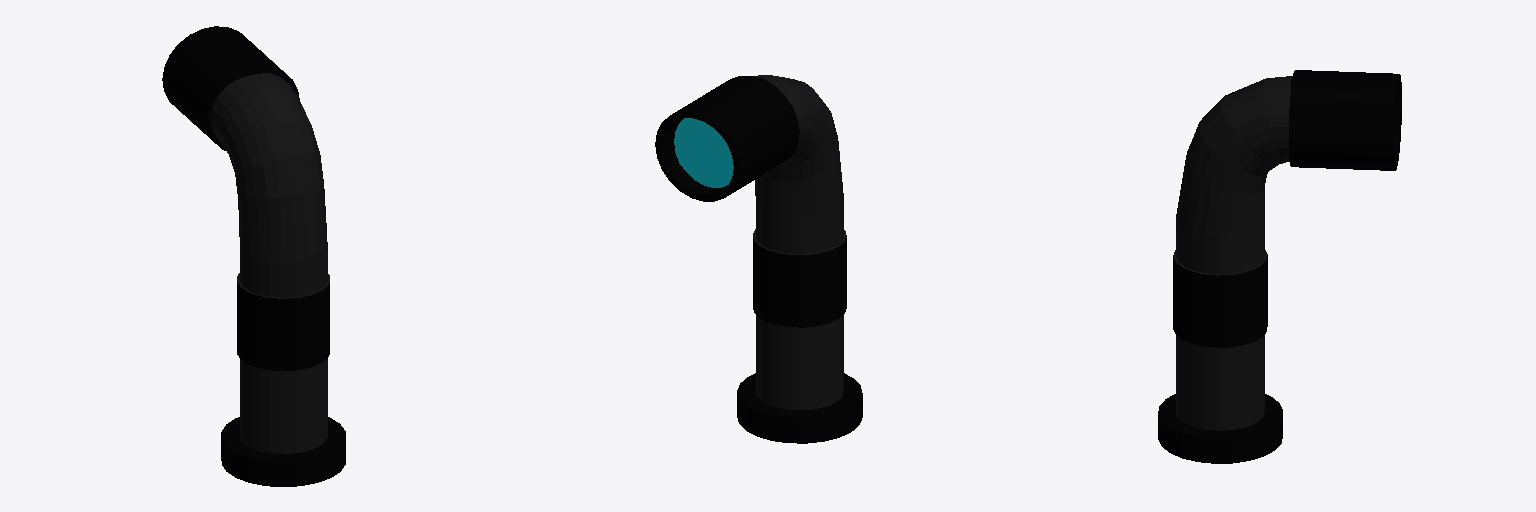
The model's file is Periscope_Size.obj.
3 views of the same model, side by side, from view 1: azimuth 30°, elevation 25°; view 2: azimuth 150°, elevation 25°; view 3: azimuth 270°, elevation 25° (orthographic).
Parts seen in each view (by area): view 1: Cylinder005, Cylinder006, Cylinder004; view 2: Cylinder005, Cylinder006, Cylinder004; view 3: Cylinder005, Cylinder006, Cylinder004.
Part boxes in pixels (left/top/right/bottom): Cylinder005: left=211, top=73, right=329, bottom=453; Cylinder006: left=162, top=26, right=299, bottom=150; Cylinder004: left=221, top=417, right=345, bottom=486; Cylinder005: left=674, top=75, right=846, bottom=409; Cylinder006: left=655, top=76, right=799, bottom=201; Cylinder004: left=737, top=373, right=862, bottom=443; Cylinder005: left=1173, top=76, right=1292, bottom=430; Cylinder006: left=1289, top=70, right=1401, bottom=170; Cylinder004: left=1158, top=394, right=1282, bottom=463.
Size of the model in its own units: 1.45 by 4.5 by 2.73.